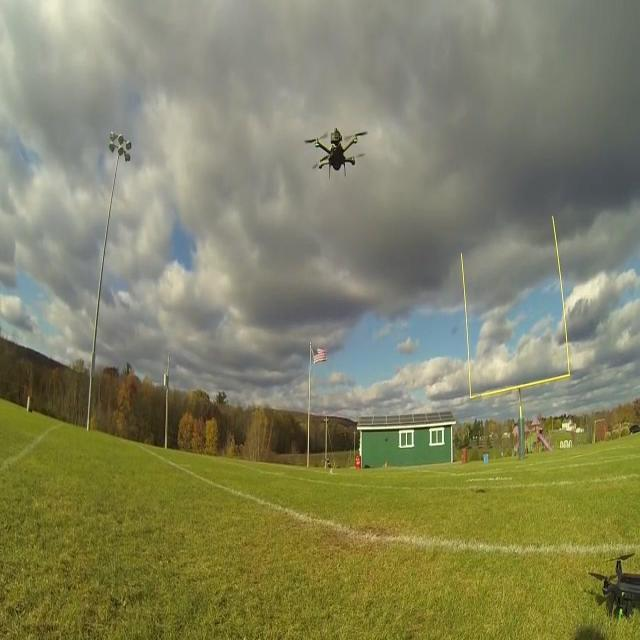drone: (313, 125, 360, 181)
